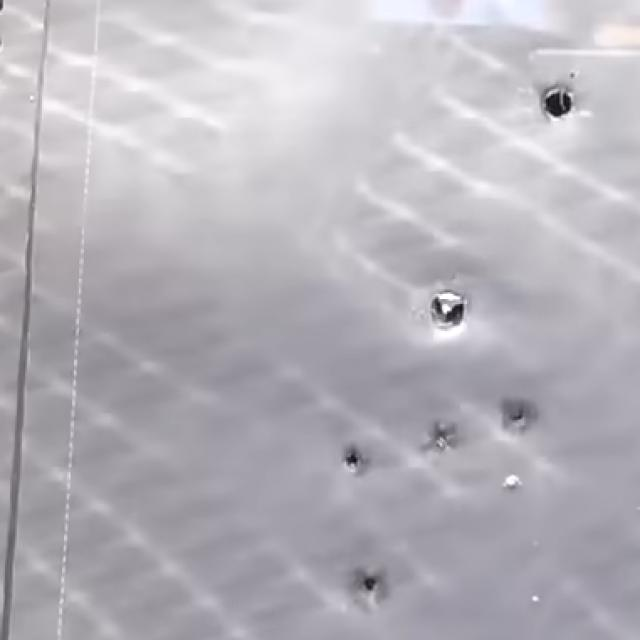bullets: (424, 288, 476, 332), (534, 79, 583, 123), (350, 569, 394, 611), (500, 394, 541, 438), (424, 420, 460, 459), (336, 442, 370, 475)
